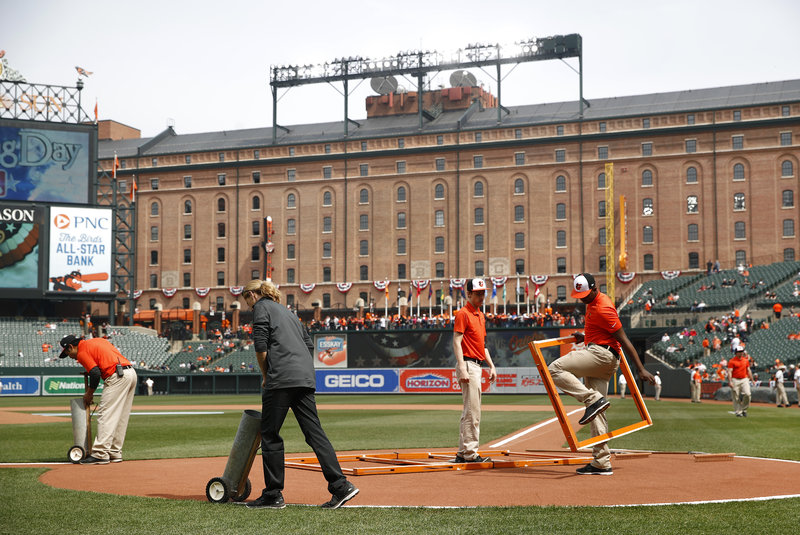Geico: (320, 370, 391, 391)
